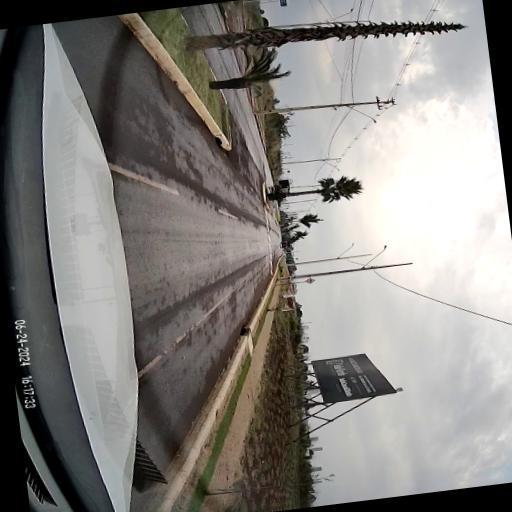A-18: (304, 278, 315, 284)
